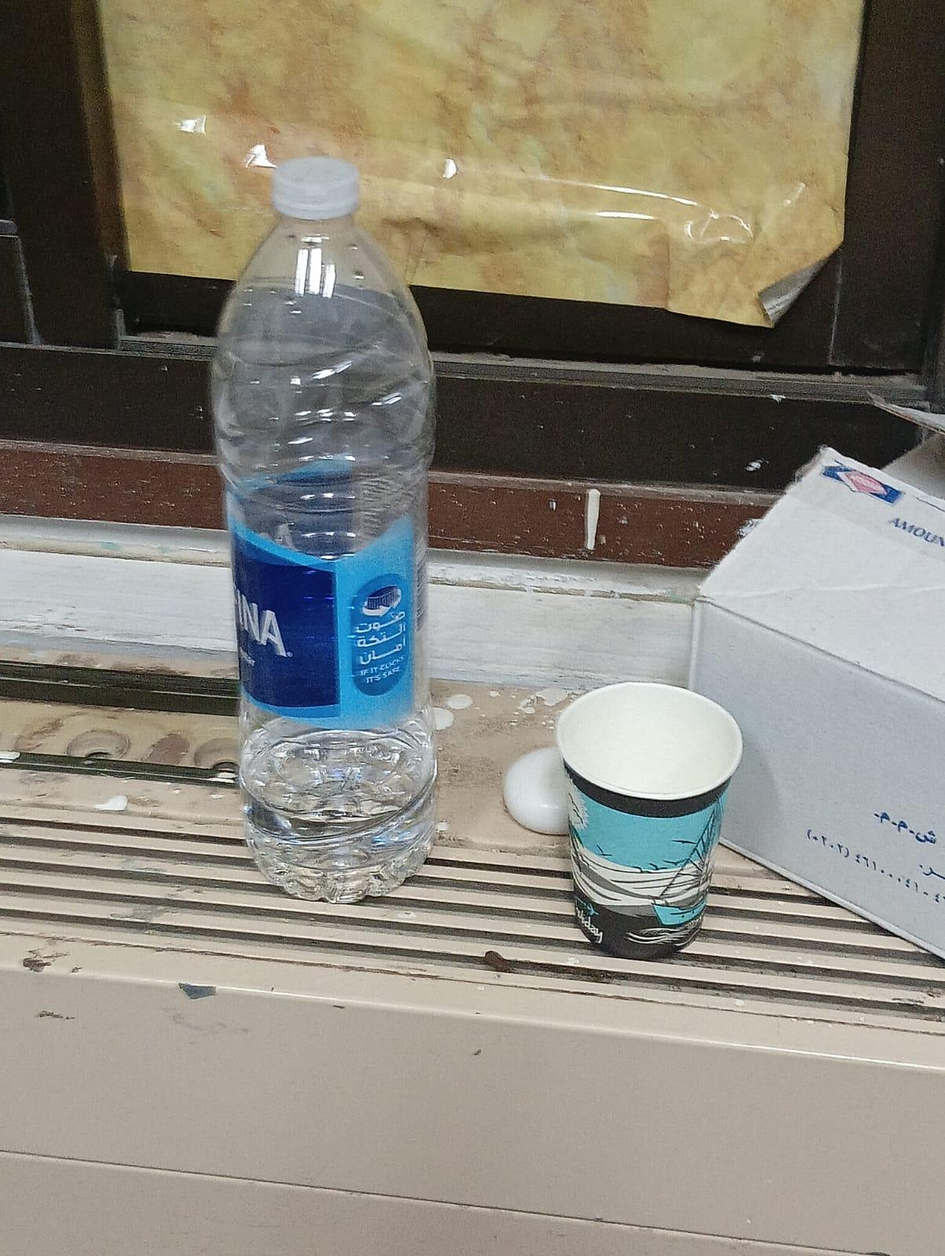cup: (557, 682, 742, 958), (558, 689, 736, 792)
